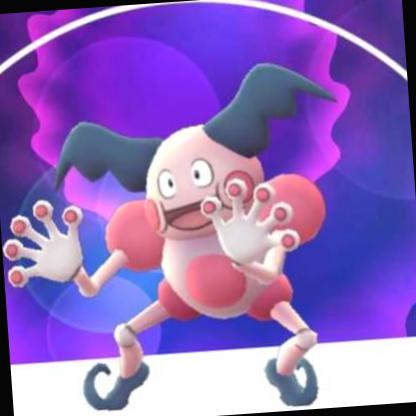Pantimos: (0, 0, 376, 415)
